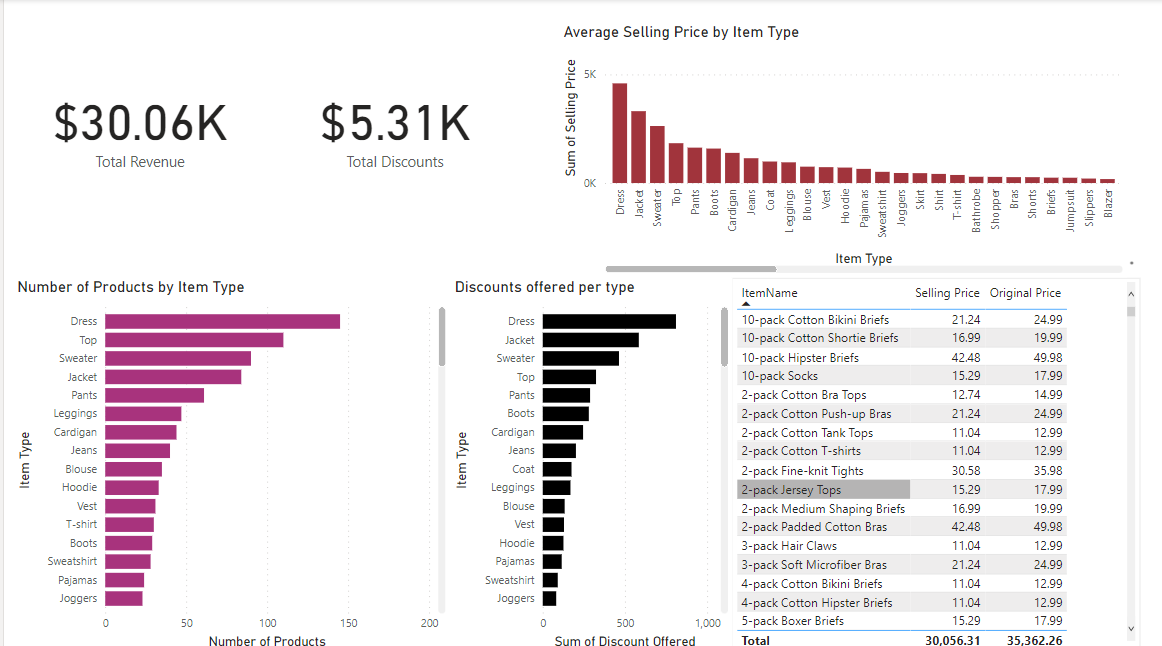

What the dashboard file says about the page in this screenshot:
{"tool":"powerbi","page":{"name":"H&M-Analysis","canvas":[1280,720],"ordinal":0},"visuals":[{"type":"card","fields":{"Values":["Table1.Total Revenue"]},"box":[10,0,280,280],"z":0},{"type":"card","fields":{"Values":["Table1.Total Discounts"]},"box":[289.8,0,280.2,280.2],"z":1000},{"type":"tableEx","fields":{"Values":["Table1.ItemName","Sum(Table1.Selling Price)","Sum(Table1.Original Price)"]},"box":[800.7,306.3,449.1,413.4],"z":2000},{"type":"barChart","fields":{"Category":["Sheet5.Item Type"],"Y":["Sum(Sheet5.Number of Products)"]},"box":[9.6,306.3,480.7,413.4],"z":3000},{"type":"columnChart","title":"Average Selling Price by Item Type","fields":{"Category":["Sheet5.Item Type"],"Y":["Sum(Sheet5.Sum of Selling Price)"]},"box":[609.8,26.1,624.9,280.2],"z":4000},{"type":"barChart","title":"Discounts offered per type","fields":{"Category":["Sheet5.Item Type"],"Y":["Sum(Sheet5.Sum of Discount Offered)"]},"box":[490.3,306.3,310.4,413.4],"z":5000}]}

Visuals, with their boxes in screenshot pixels (x1, y1, x2, y2), scaled from the page's 1280x720 canvas onto the 1162x646 screenshot:
card - Table1.Total Revenue: rect(9, 0, 263, 251)
card - Table1.Total Discounts: rect(263, 0, 517, 251)
tableEx - Table1.ItemName x Sum(Table1.Selling Price): rect(727, 275, 1135, 645)
barChart - Sheet5.Item Type x Sum(Sheet5.Number of Products): rect(9, 275, 445, 645)
"Average Selling Price by Item Type" columnChart: rect(554, 23, 1121, 275)
"Discounts offered per type" barChart: rect(445, 275, 727, 645)
